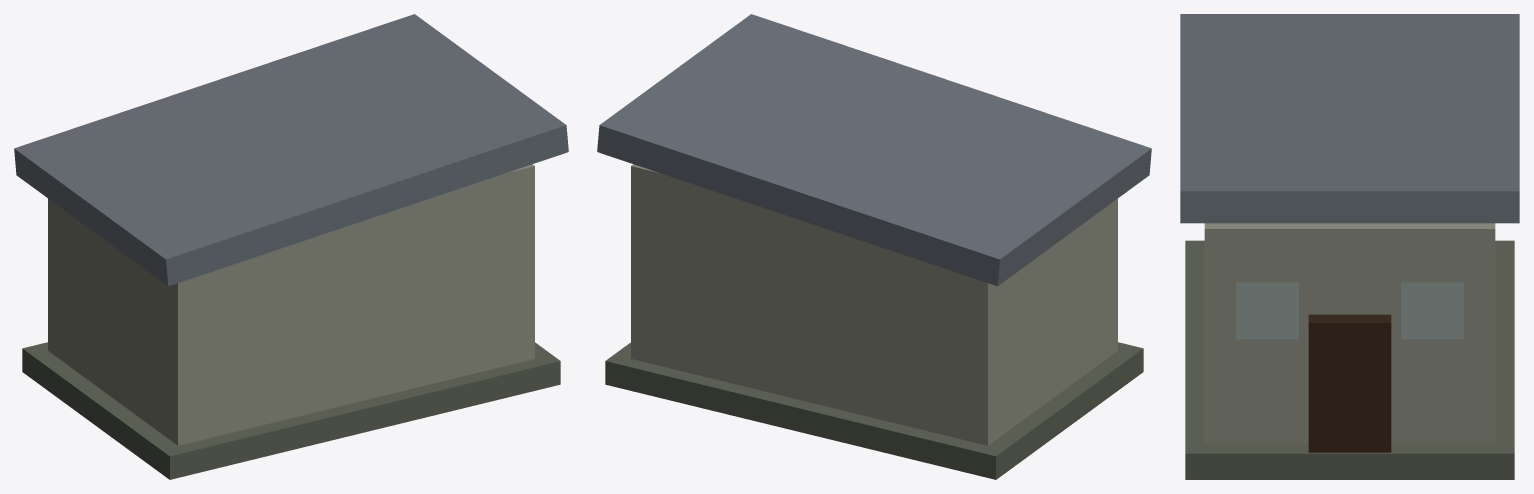
The model's file is french-villa.glb.
The picture shows the model from 3 angles, left to right: view 1: azimuth 30°, elevation 25°; view 2: azimuth 150°, elevation 25°; view 3: azimuth 270°, elevation 25°; orthographic projection. The views are drawn at different scales.
Visible parts, largest first — view 1: walls, roof, foundation; view 2: walls, roof, foundation; view 3: roof, walls, foundation, frontDoor, windowLeft, windowRight.
Part boxes in pixels (bbox=[...]): walls: bbox=[48, 164, 534, 445]; roof: bbox=[14, 14, 568, 286]; foundation: bbox=[22, 342, 560, 479]; walls: bbox=[631, 164, 1117, 445]; roof: bbox=[597, 14, 1151, 286]; foundation: bbox=[605, 342, 1143, 479]; roof: bbox=[1180, 14, 1519, 223]; walls: bbox=[1204, 223, 1495, 444]; foundation: bbox=[1185, 240, 1514, 479]; frontDoor: bbox=[1308, 314, 1391, 452]; windowLeft: bbox=[1236, 282, 1298, 338]; windowRight: bbox=[1401, 282, 1463, 338].
Size of the model in its own units: 2.14 by 1.32 by 1.4.
